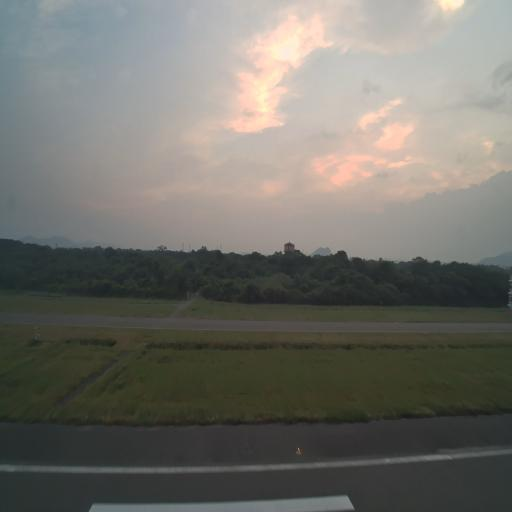on: (296, 444, 302, 456)
